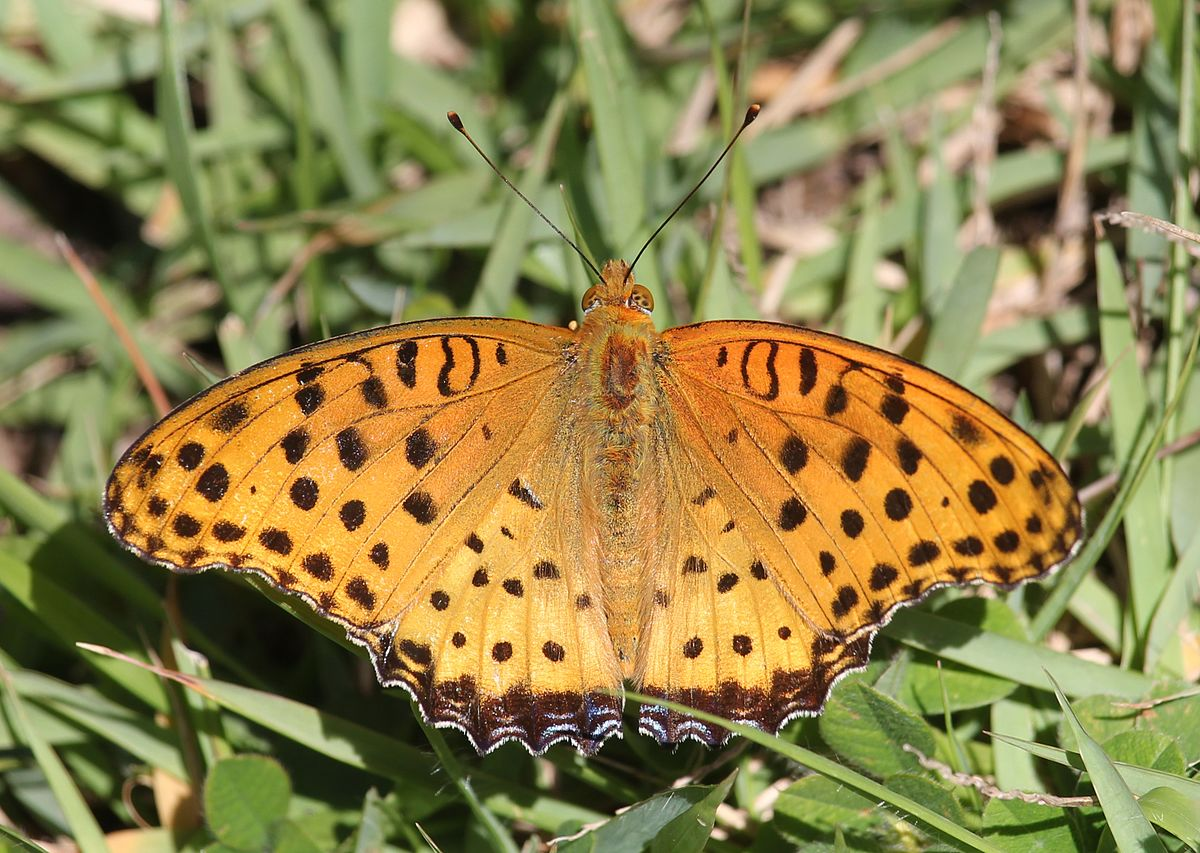Argyreus hyperbius: (84, 94, 1095, 763)
butterfly: (86, 96, 1097, 765)
